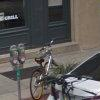Bicycle: (32, 41, 69, 100)
